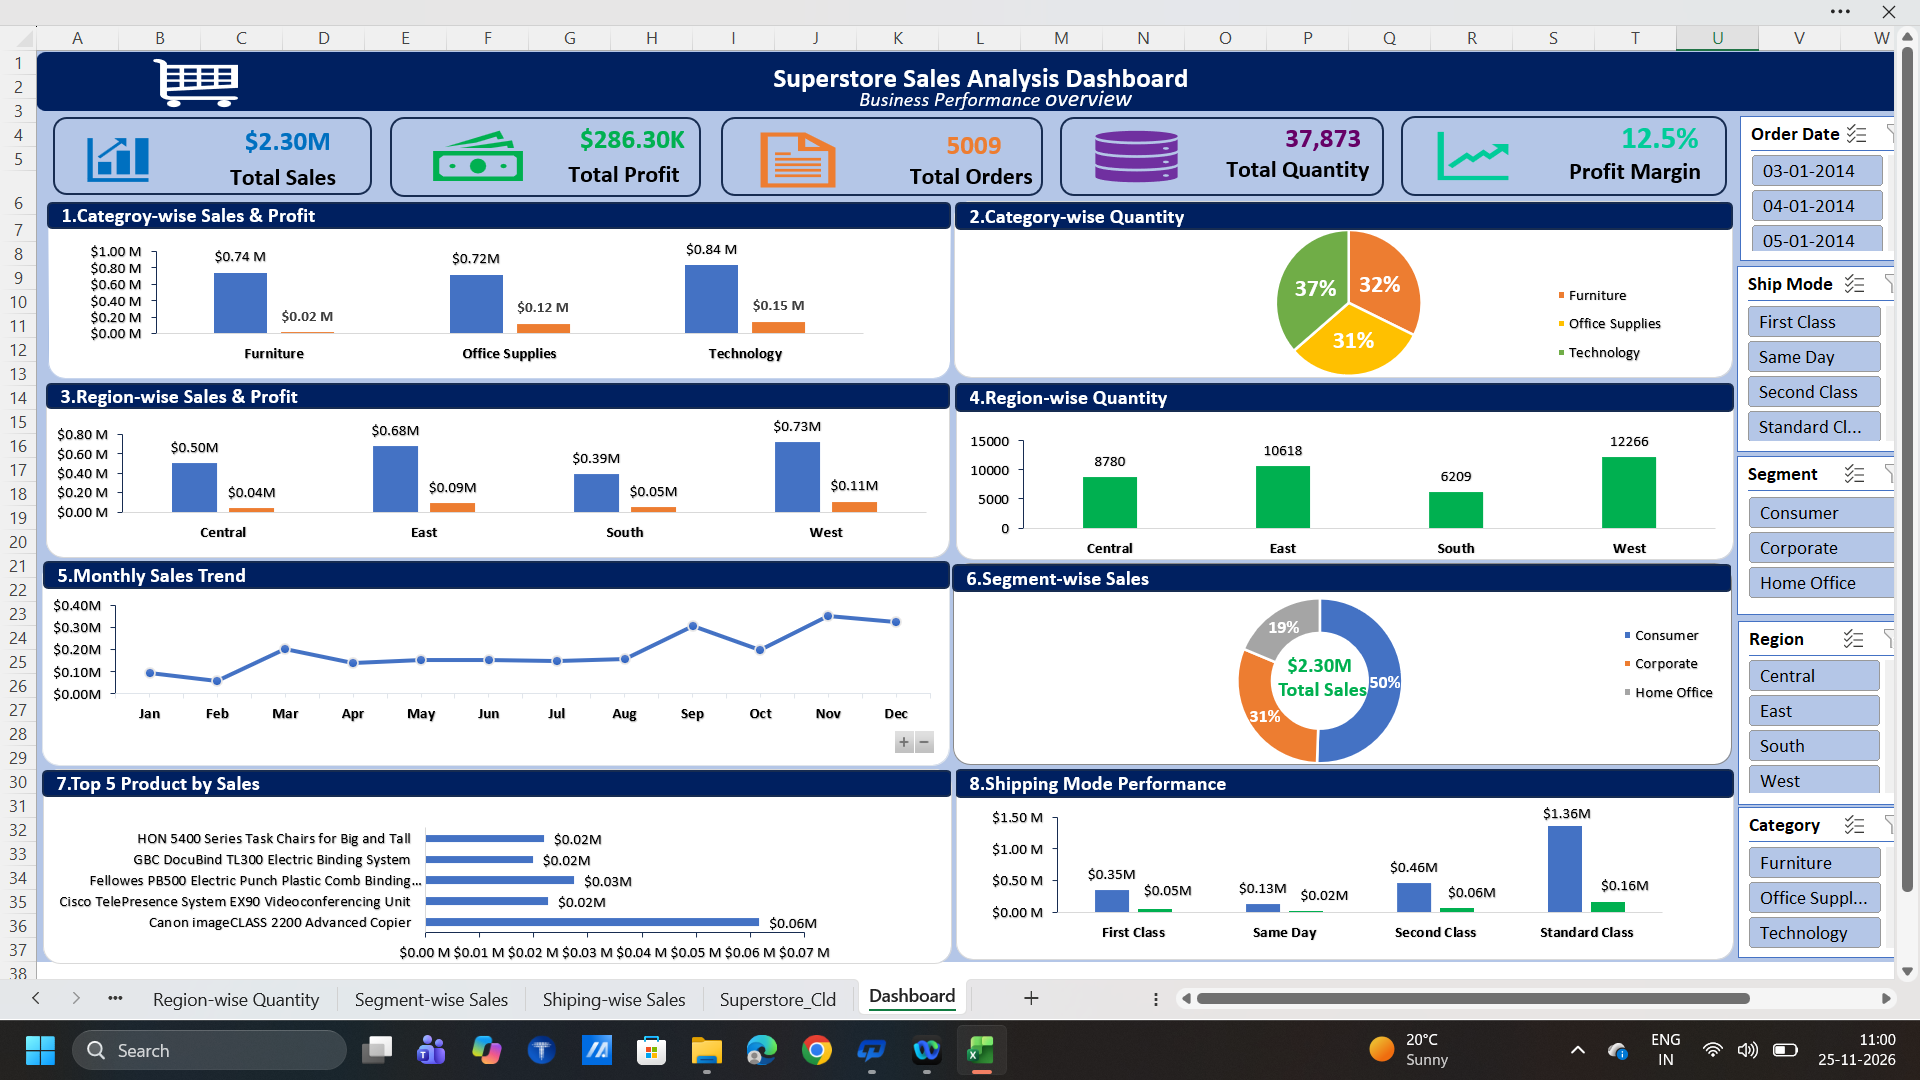

Layout of this report page (visuals, bound fields, positions):
{"tool":"powerbi","page":{"name":"Dashboard","canvas":[1920,1080],"ordinal":0},"visuals":[{"type":"cardVisual","fields":{"Data":["Measure1.Total_Sales"]},"box":[47.1,87.1,265.7,95.7],"z":0},{"type":"cardVisual","fields":{"Data":["Measure1.Total_Profit"]},"box":[330,82.9,302.9,98.6],"z":1000},{"type":"cardVisual","fields":{"Data":["Measure1.Total_Quantity"]},"box":[670,84.3,290,98.6],"z":2000},{"type":"cardVisual","fields":{"Data":["Measure1.Total_Orders"]},"box":[997.1,84.3,278.6,98.6],"z":3000},{"type":"cardVisual","fields":{"Data":["Measure1.Profit_Margin"]},"box":[1621.4,81.4,285.7,98.6],"z":4000},{"type":"clusteredColumnChart","title":"Sales & Profit by Category","fields":{"Category":["Superstore_Cld.Category"],"Y":["Measure1.Total_Sales","Measure1.Total_Profit"]},"box":[0,188.6,625.7,212.9],"z":5000},{"type":"clusteredColumnChart","title":"Sales & Profit by Region","fields":{"Category":["Superstore_Cld.Region"],"Y":["Measure1.Total_Sales","Measure1.Total_Profit"]},"box":[632.9,188.6,654.3,215.7],"z":6000},{"type":"lineChart","title":"Monthly Sales Trend","fields":{"Category":["Superstore_Cld.Ship Date.Variation.Date Hierarchy.Month"],"Y":["Measure1.Total_Sales"]},"box":[1291.4,190,627.1,212.9],"z":7000},{"type":"donutChart","title":"Sales by Segment","fields":{"Category":["Superstore_Cld.Segment"],"Y":["Measure1.Total_Sales"]},"box":[2.9,405.8,624.6,242],"z":8000},{"type":"clusteredBarChart","title":"Sales by Product Name","fields":{"Category":["Superstore_Cld.Product Name"],"Y":["Measure1.Total_Sales"]},"box":[632.9,405.7,654.3,241.4],"z":9000},{"type":"clusteredColumnChart","title":"Sales & Profit by Ship Mode","fields":{"Category":["Superstore_Cld.Ship Mode"],"Y":["Measure1.Total_Sales","Measure1.Total_Profit"]},"box":[1291.4,404.3,628.6,237.1],"z":10000},{"type":"shape","box":[0,0,1918.6,72.9],"z":11000},{"type":"textbox","box":[1.4,224.3,1157.1,12.9],"z":12000},{"type":"cardVisual","fields":{"Data":["Measure1.Average Order Value"]},"box":[1310,81.4,278.6,98.6],"z":14000},{"type":"image","box":[1261.4,87.1,202.9,80],"z":15000},{"type":"image","box":[23.5,92.6,155.9,88.2],"z":16000},{"type":"image","box":[330,91.4,140,82.9],"z":17000},{"type":"image","box":[657.1,87.1,145.7,87.1],"z":18000},{"type":"image","box":[1000,88.6,137.1,101.4],"z":19000},{"type":"image","box":[1621.4,88.6,141.4,88.6],"z":20000},{"type":"image","box":[22.9,0,78.6,72.9],"z":21000},{"type":"shape","box":[1.4,654.3,655.7,182.9],"z":22000},{"type":"textbox","box":[1.4,702.9,655.7,134.3],"z":23000},{"type":"shape","box":[1.4,190,625.7,34.3],"z":24000},{"type":"textbox","box":[1.4,695.7,655.7,14.3],"z":25000},{"type":"textbox","box":[1.4,190,625.7,34.3],"z":26000},{"type":"shape","box":[632.9,188.6,654.3,35.7],"z":26001},{"type":"textbox","box":[632.9,188.6,654.3,35.7],"z":26002},{"type":"shape","box":[1291.4,190,625.7,34.3],"z":26003},{"type":"textbox","box":[1291.4,190,627.1,34.3],"z":26004},{"type":"shape","box":[0,405.8,625.7,37.1],"z":26005},{"type":"textbox","box":[1.4,405.8,624.6,37.7],"z":26006},{"type":"shape","box":[632.9,405.7,655.7,37.1],"z":26007},{"type":"textbox","box":[632.9,405.7,654.3,37.1],"z":26008},{"type":"shape","box":[1291.4,405.7,628.6,37.1],"z":26009},{"type":"textbox","box":[1291.4,405.7,495.7,37.1],"z":26010},{"type":"shape","box":[1.4,654.3,655.7,41.4],"z":26011},{"type":"textbox","box":[1.4,654.3,655.7,48.6],"z":26012},{"type":"map","title":"Sales by State","fields":{"Size":["Sum(Superstore_Cld.Sales)"]},"box":[669.1,654.4,617.6,182.4],"z":26013},{"type":"textbox","box":[163.2,17.6,538.2,55.9],"z":26014},{"type":"clusteredColumnChart","box":[1292.6,654.4,614.7,182.4],"z":26015},{"type":"image","box":[1289.7,647.1,630.9,210.3],"z":26016},{"type":"slicer","fields":{"Values":["Superstore_Cld.Region"]},"box":[892.6,4.4,107.4,57.4],"z":26017},{"type":"slicer","fields":{"Values":["Superstore_Cld.Segment"]},"box":[1248.5,7.4,145.6,57.4],"z":26018},{"type":"slicer","fields":{"Values":["Superstore_Cld.Ship Mode"]},"box":[1444.1,2.9,155.9,61.8],"z":26019},{"type":"slicer","fields":{"Values":["Superstore_Cld.Category"]},"box":[1054.4,4.4,135.3,57.4],"z":26020},{"type":"slicer","fields":{"Values":["Superstore_Cld.Order Date"]},"box":[1652.9,5.9,164.7,57.4],"z":26021},{"type":"image","box":[0,647.8,62.3,47.8],"z":26022},{"type":"image","box":[2.9,702.9,44.9,37.7],"z":26023},{"type":"image","box":[0,753.6,49.3,33.3],"z":26024},{"type":"image","box":[2.9,804.3,44.9,33.3],"z":26025}]}

Visuals, with their boxes on the page's 1920x1080 design canvas (x1, y1, x2, y2). These are canvas units, not pixel positions in the 1920x1080 screenshot, which may show the page scaled, cropped or inside an application window:
cardVisual - Measure1.Total_Sales: left=47, top=87, right=313, bottom=183
cardVisual - Measure1.Total_Profit: left=330, top=83, right=633, bottom=182
cardVisual - Measure1.Total_Quantity: left=670, top=84, right=960, bottom=183
cardVisual - Measure1.Total_Orders: left=997, top=84, right=1276, bottom=183
cardVisual - Measure1.Profit_Margin: left=1621, top=81, right=1907, bottom=180
"Sales & Profit by Category" clusteredColumnChart: left=0, top=189, right=626, bottom=402
"Sales & Profit by Region" clusteredColumnChart: left=633, top=189, right=1287, bottom=404
"Monthly Sales Trend" lineChart: left=1291, top=190, right=1918, bottom=403
"Sales by Segment" donutChart: left=3, top=406, right=628, bottom=648
"Sales by Product Name" clusteredBarChart: left=633, top=406, right=1287, bottom=647
"Sales & Profit by Ship Mode" clusteredColumnChart: left=1291, top=404, right=1920, bottom=641
shape: left=0, top=0, right=1919, bottom=73
textbox: left=1, top=224, right=1158, bottom=237
cardVisual - Measure1.Average Order Value: left=1310, top=81, right=1589, bottom=180
image: left=1261, top=87, right=1464, bottom=167
image: left=24, top=93, right=179, bottom=181
image: left=330, top=91, right=470, bottom=174
image: left=657, top=87, right=803, bottom=174
image: left=1000, top=89, right=1137, bottom=190
image: left=1621, top=89, right=1763, bottom=177
image: left=23, top=0, right=102, bottom=73
shape: left=1, top=654, right=657, bottom=837
textbox: left=1, top=703, right=657, bottom=837
shape: left=1, top=190, right=627, bottom=224
textbox: left=1, top=696, right=657, bottom=710
textbox: left=1, top=190, right=627, bottom=224
shape: left=633, top=189, right=1287, bottom=224
textbox: left=633, top=189, right=1287, bottom=224
shape: left=1291, top=190, right=1917, bottom=224
textbox: left=1291, top=190, right=1918, bottom=224
shape: left=0, top=406, right=626, bottom=443
textbox: left=1, top=406, right=626, bottom=444
shape: left=633, top=406, right=1289, bottom=443
textbox: left=633, top=406, right=1287, bottom=443
shape: left=1291, top=406, right=1920, bottom=443
textbox: left=1291, top=406, right=1787, bottom=443
shape: left=1, top=654, right=657, bottom=696
textbox: left=1, top=654, right=657, bottom=703
"Sales by State" map: left=669, top=654, right=1287, bottom=837
textbox: left=163, top=18, right=701, bottom=74
clusteredColumnChart: left=1293, top=654, right=1907, bottom=837
image: left=1290, top=647, right=1921, bottom=857
slicer - Superstore_Cld.Region: left=893, top=4, right=1000, bottom=62
slicer - Superstore_Cld.Segment: left=1248, top=7, right=1394, bottom=65
slicer - Superstore_Cld.Ship Mode: left=1444, top=3, right=1600, bottom=65
slicer - Superstore_Cld.Category: left=1054, top=4, right=1190, bottom=62
slicer - Superstore_Cld.Order Date: left=1653, top=6, right=1818, bottom=63
image: left=0, top=648, right=62, bottom=696
image: left=3, top=703, right=48, bottom=741
image: left=0, top=754, right=49, bottom=787
image: left=3, top=804, right=48, bottom=838
